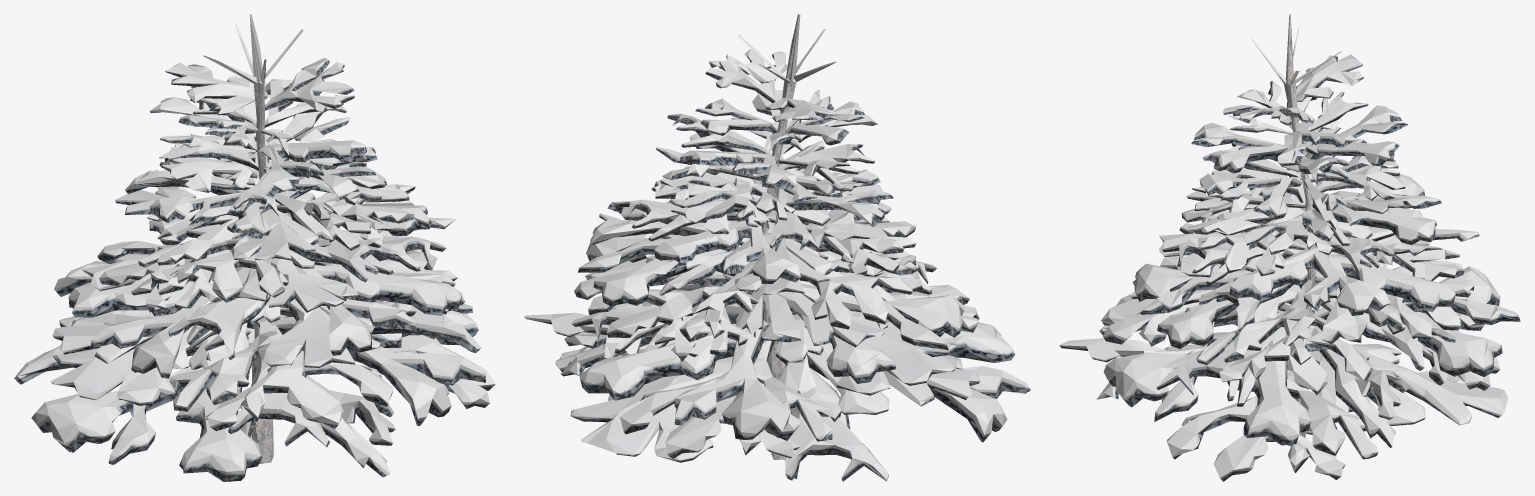
The model's file is sh-scopia-blue-pine-snow.glb.
The picture shows the model from 3 angles, left to right: view 1: azimuth 30°, elevation 25°; view 2: azimuth 150°, elevation 25°; view 3: azimuth 270°, elevation 25°; orthographic projection. The views are drawn at different scales.
Visible parts, largest first — view 1: Snow.001, Trunk; view 2: Snow.001, Trunk; view 3: Snow.001, Trunk.
Boxes of the visible parts, <box> form: Snow.001: <box>14,57,495,481</box>; Trunk: <box>203,14,303,463</box>; Snow.001: <box>524,48,1030,481</box>; Trunk: <box>738,14,835,459</box>; Snow.001: <box>1059,54,1520,481</box>; Trunk: <box>1251,14,1341,446</box>.
Size of the model in its own units: 0.9972 by 0.9999 by 0.9917.
Materials: 2 (2 with a texture image).
